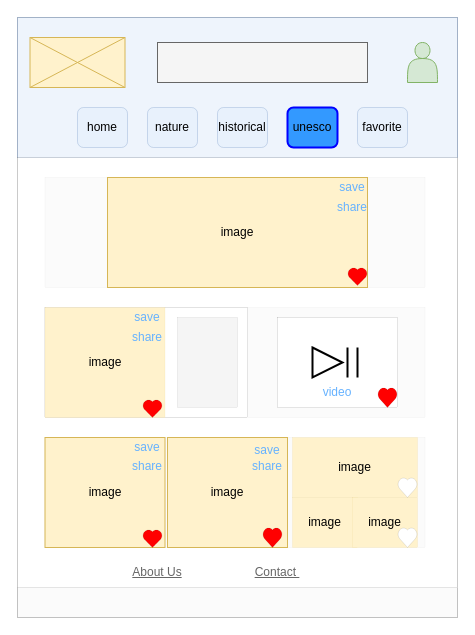
Some shapes in this 475 by 635 pixel diagram are drawn without their labels. Here are the shapes that lost their labels. From the top down, the box of each, then its label:
(156, 42, 368, 82): search
(177, 317, 237, 407): paragraph
